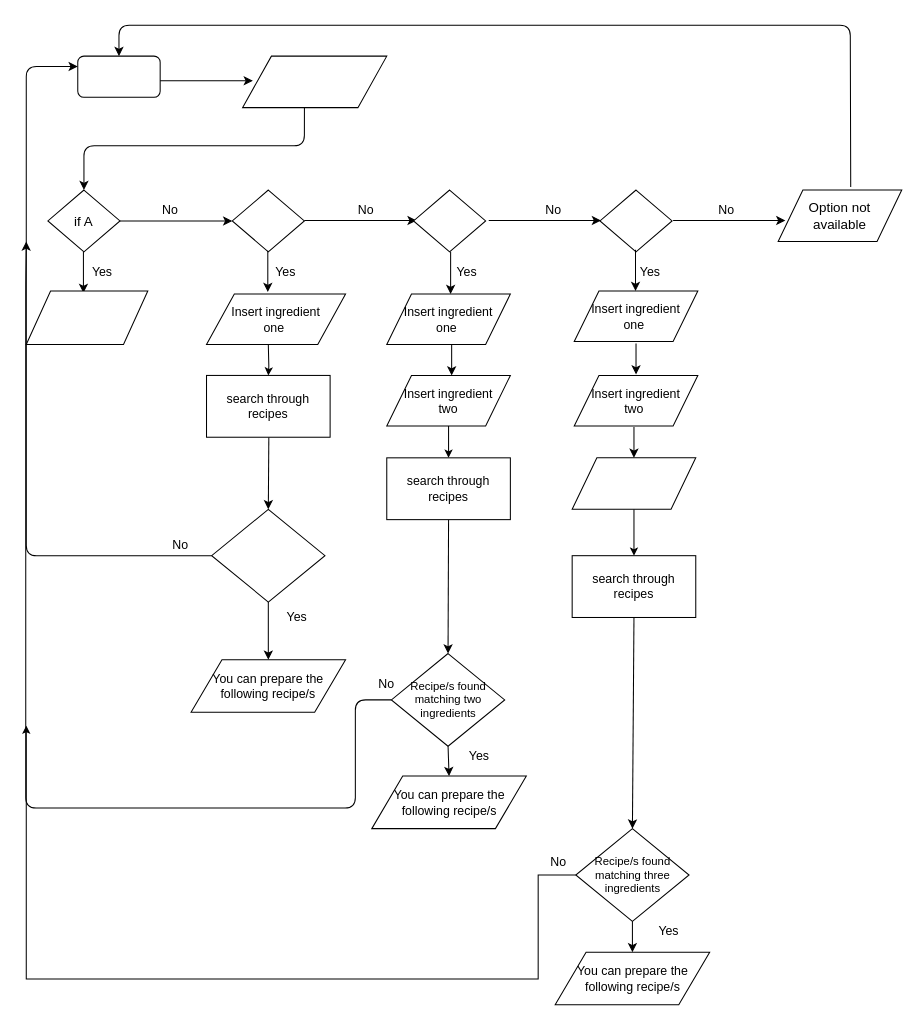
Some shapes in this 920 by 1023 pixel diagram are drawn without their labels. Here are the shapes that lost their labels. From the top down, the centre of each, then its label:
At [118,76]: "Start".
At [314,81]: "Please choose one option A,B,C,D".
At [267,220]: "if B".
At [449,220]: "if C".
At [635,220]: "if D".
At [86,317]: "Available recipes are listed".
At [633,483]: "Insert ingredient three".
At [268,555]: "Recipe/s found matching one ingredient".
